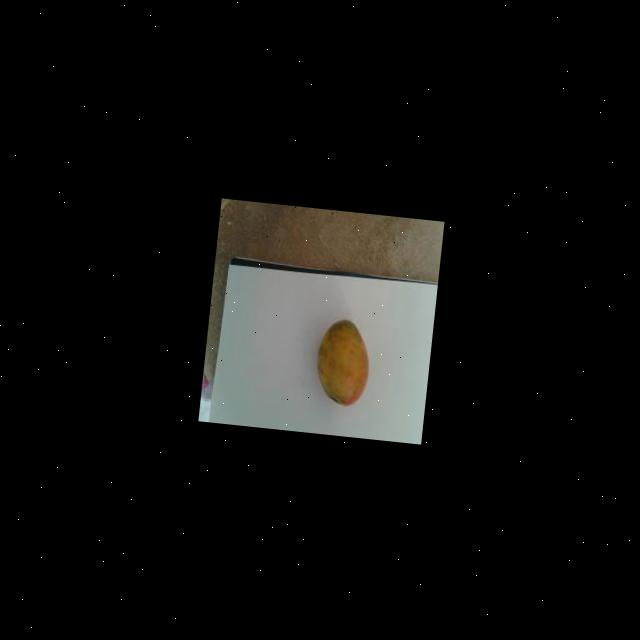Mango: (310, 315, 372, 406)
